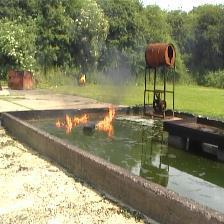fire: (57, 105, 117, 134)
